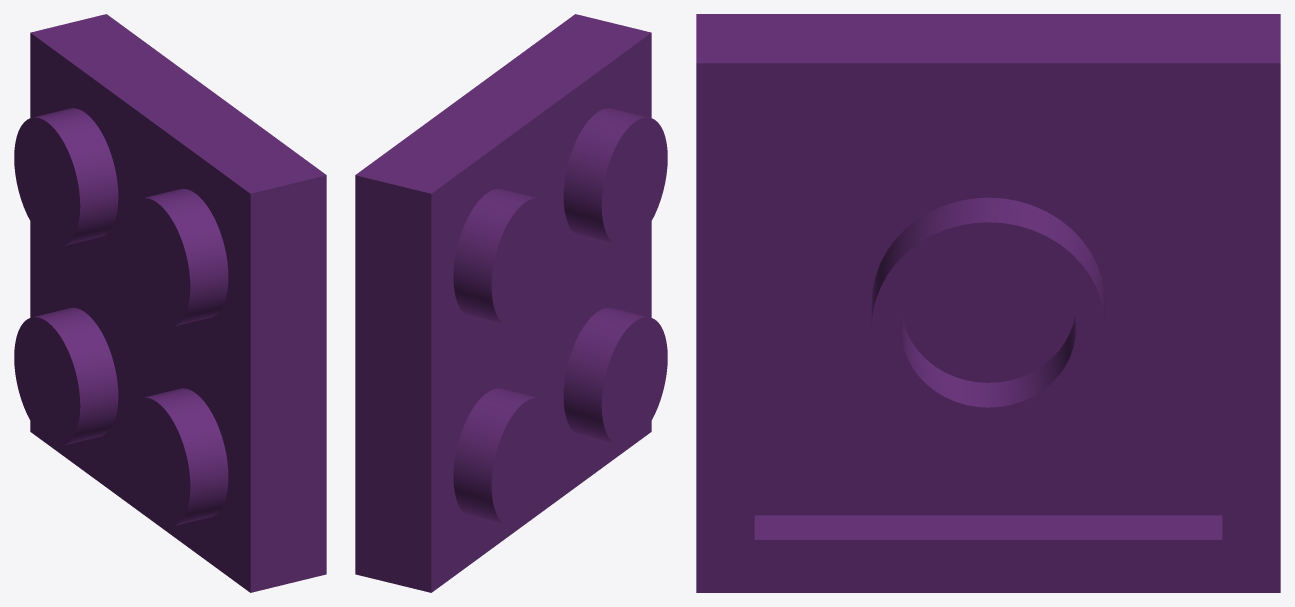
File: plate2*2_medium_lavender.obj
3 views of the same model, side by side, from view 1: azimuth 30°, elevation 25°; view 2: azimuth 150°, elevation 25°; view 3: azimuth 270°, elevation 25° (orthographic). The views are drawn at different scales.
Size of the model in its own units: 12 by 40 by 40.
